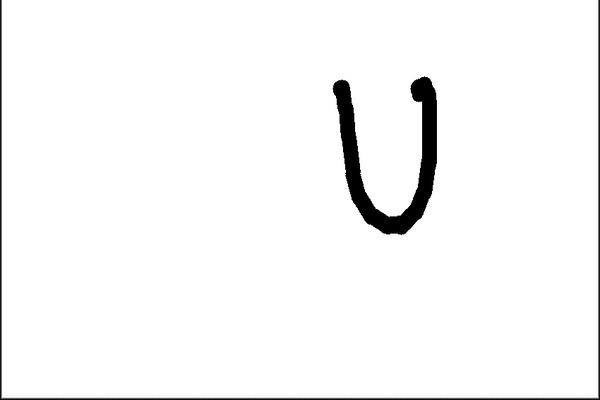U: (318, 58, 451, 243)
